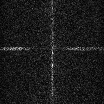wifi: (1, 46, 104, 50)
